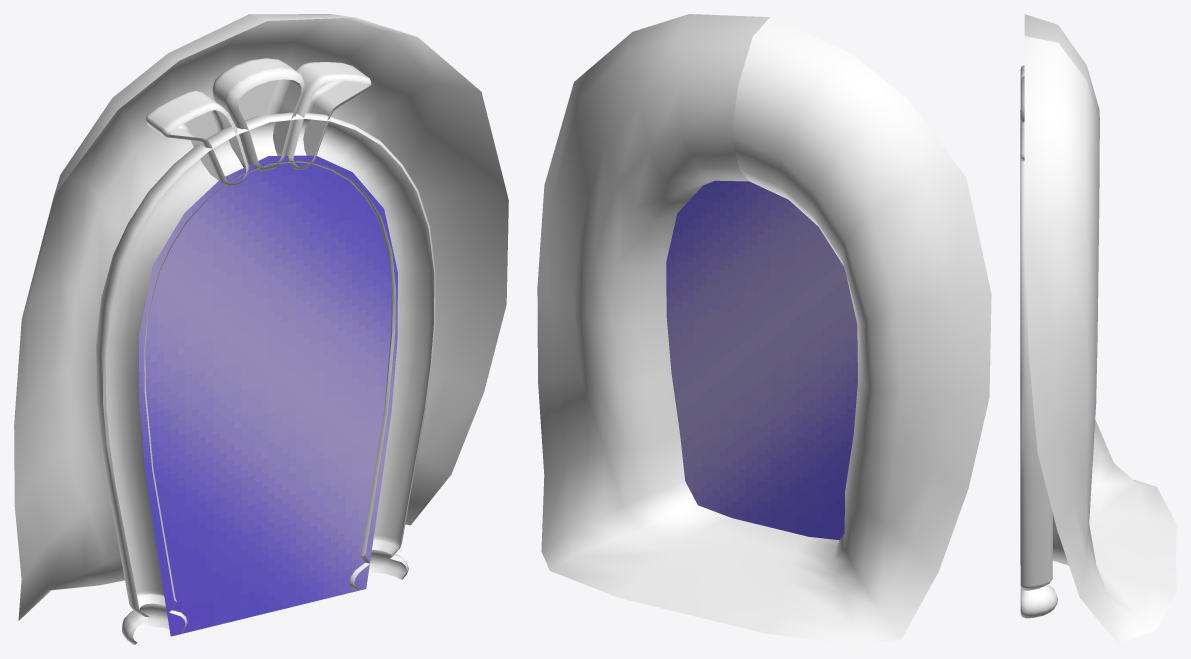
Rendered from Portal_Purple.fbx.
3 renders of one model, left to right at view 1: azimuth 30°, elevation 25°; view 2: azimuth 150°, elevation 25°; view 3: azimuth 270°, elevation 25°, orthographic. The views are drawn at different scales.
Parts seen in each view (by area): view 1: m_wizard_portal_02, ms_pfx_Teleport_1, m_wizard_portal_01; view 2: ms_pfx_Teleport_1, m_wizard_portal_02; view 3: ms_pfx_Teleport_1, m_wizard_portal_01.
Boxes of the visible parts, x1=… form: m_wizard_portal_02: x1=139, y1=155, x2=397, y2=636; ms_pfx_Teleport_1: x1=14, y1=14, x2=508, y2=620; m_wizard_portal_01: x1=96, y1=58, x2=435, y2=644; ms_pfx_Teleport_1: x1=537, y1=14, x2=991, y2=644; m_wizard_portal_02: x1=666, y1=180, x2=857, y2=540; ms_pfx_Teleport_1: x1=1024, y1=14, x2=1176, y2=644; m_wizard_portal_01: x1=1020, y1=65, x2=1057, y2=618.
Size of the model in its own units: 1.92 by 2.2 by 0.595.
Materials: 3 (1 with a texture image).
